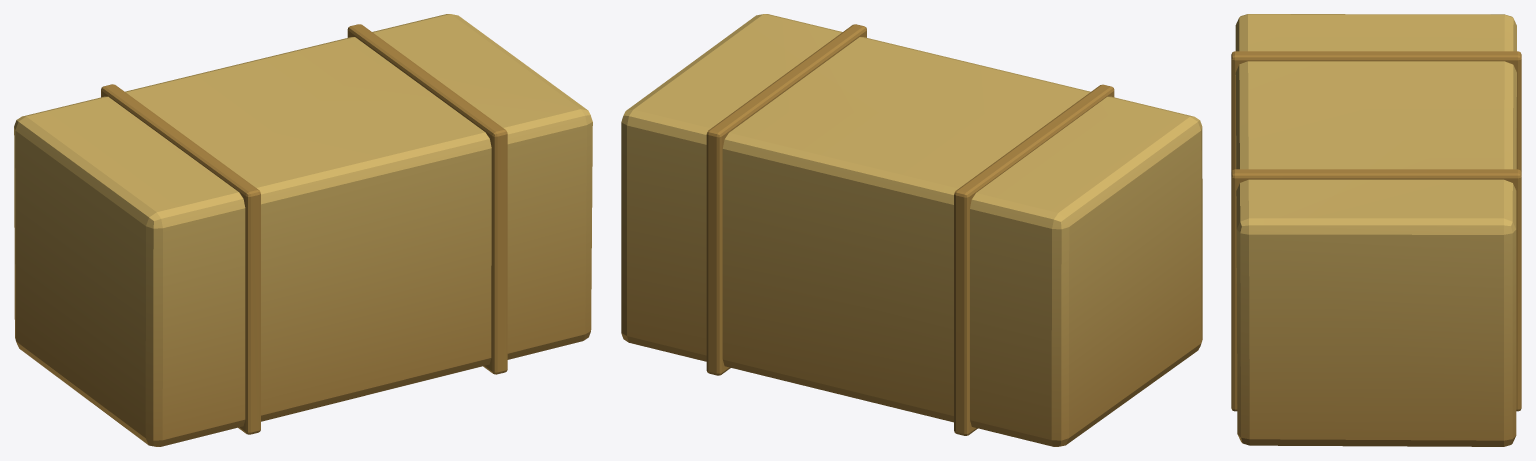
The model's file is hay_bale.glb.
3 renders of one model, left to right at view 1: azimuth 30°, elevation 25°; view 2: azimuth 150°, elevation 25°; view 3: azimuth 270°, elevation 25°, orthographic. The views are drawn at different scales.
Parts seen in each view (by area): view 1: HayBale; view 2: HayBale; view 3: HayBale.
Part boxes in pixels (<box>): HayBale: <box>14,14,592,446</box>; HayBale: <box>621,14,1202,446</box>; HayBale: <box>1231,14,1521,446</box>.
Bounding box in the file's own units: 0.9053 × 0.47 × 0.52.
